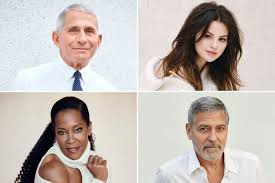no-mask: (54, 5, 105, 65), (184, 99, 231, 163), (48, 99, 90, 160), (192, 7, 235, 65)
